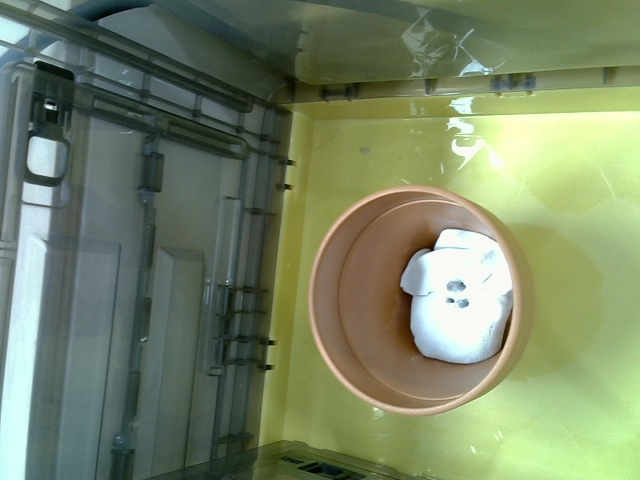화분: (305, 185, 536, 416)
